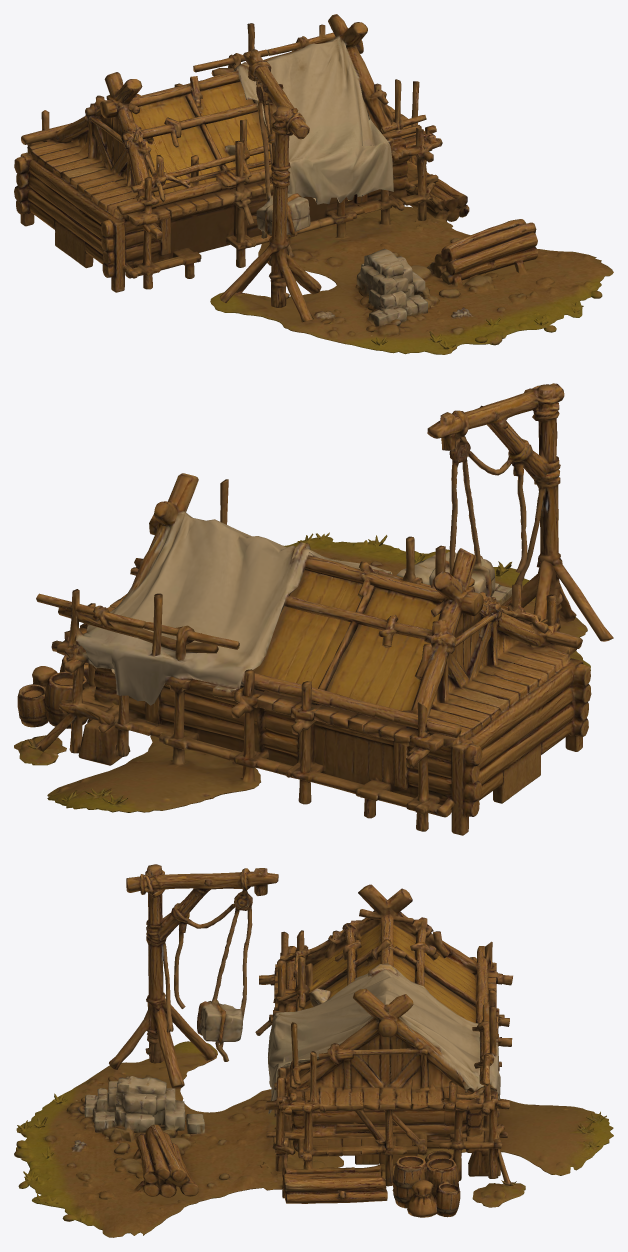
Rendered from Lvl_1-10_Building.fbx.
The picture shows the model from 3 angles, top to bottom: view 1: azimuth 30°, elevation 25°; view 2: azimuth 150°, elevation 25°; view 3: azimuth 270°, elevation 25°; orthographic projection. The views are drawn at different scales.
Parts seen in each view (by area): view 1: tripo_node_81f3ba2e; view 2: tripo_node_81f3ba2e; view 3: tripo_node_81f3ba2e.
Boxes of the visible parts, <box> form: tripo_node_81f3ba2e: <box>14,14,613,354</box>; tripo_node_81f3ba2e: <box>14,383,613,835</box>; tripo_node_81f3ba2e: <box>14,864,613,1237</box>.
Bounding box in the file's own units: 0.769 × 0.4165 × 0.9678.
Materials: 1 (1 with a texture image).
